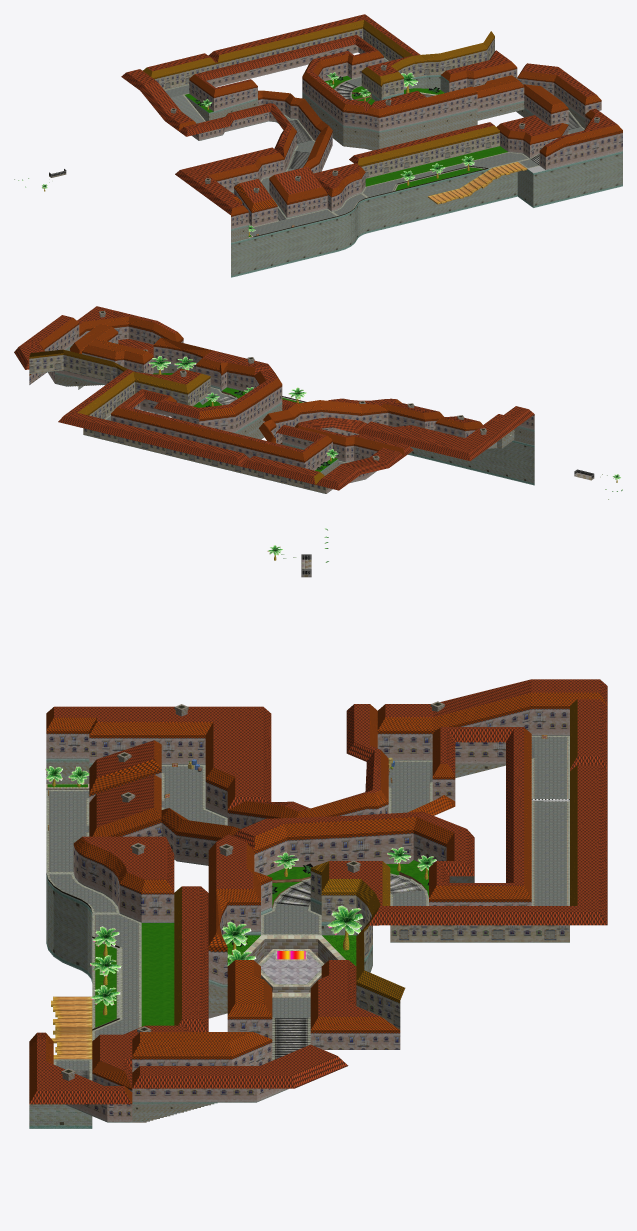
3 renders of one model, top to bottom at view 1: azimuth 30°, elevation 25°; view 2: azimuth 150°, elevation 25°; view 3: azimuth 270°, elevation 25°, orthographic. The views are drawn at different scales.
Parts seen in each view (by area): view 1: BuildingsO, RedRoofTileO, RoadO.002, GrassO.002, BorderTilesO, Wood2O.001, FinishlineO.002, PalmTreeO, GateO.001; view 2: BuildingsO, RedRoofTileO, PalmTreeO, GrassO.002, BrickO.001; view 3: BuildingsO, RedRoofTileO, RoadO.002, BorderTilesO, GrassO.002, PalmTreeO, BrickO.001, Wood2O.001, FinishlineO.002, Road2O.001.
Boxes of the visible parts, bbox=[...] form: BuildingsO: bbox=[143, 20, 622, 277]; RedRoofTileO: bbox=[121, 14, 617, 214]; RoadO.002: bbox=[165, 59, 583, 236]; GrassO.002: bbox=[185, 76, 507, 236]; BorderTilesO: bbox=[164, 57, 584, 237]; Wood2O.001: bbox=[428, 162, 527, 204]; FinishlineO.002: bbox=[248, 82, 580, 227]; PalmTreeO: bbox=[14, 72, 474, 235]; GateO.001: bbox=[49, 166, 488, 237]; BuildingsO: bbox=[29, 316, 534, 493]; RedRoofTileO: bbox=[14, 306, 534, 490]; PalmTreeO: bbox=[148, 355, 622, 499]; GrassO.002: bbox=[153, 373, 337, 471]; BrickO.001: bbox=[99, 310, 594, 480]; BuildingsO: bbox=[29, 692, 607, 1128]; RedRoofTileO: bbox=[29, 679, 607, 1104]; RoadO.002: bbox=[49, 737, 566, 1079]; BorderTilesO: bbox=[46, 736, 569, 1080]; GrassO.002: bbox=[47, 784, 428, 1027]; PalmTreeO: bbox=[45, 528, 455, 1015]; BrickO.001: bbox=[46, 559, 444, 1080]; Wood2O.001: bbox=[51, 996, 92, 1059]; FinishlineO.002: bbox=[74, 799, 569, 1078]; Road2O.001: bbox=[261, 952, 321, 983].
Bounding box in the file's own units: 113108 × 19940 × 52553.
20 materials, 20 textured.
